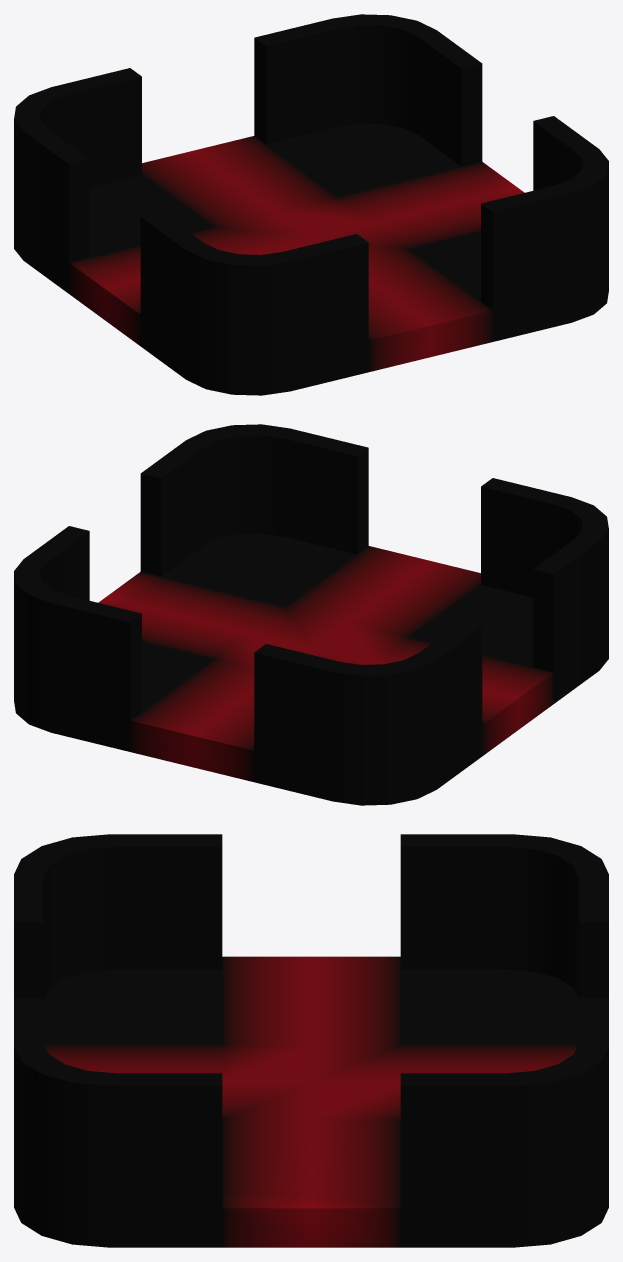
The model's file is Tile_Cross.fbx.
3 renders of one model, top to bottom at view 1: azimuth 30°, elevation 25°; view 2: azimuth 150°, elevation 25°; view 3: azimuth 270°, elevation 25°, orthographic. The views are drawn at different scales.
Visible parts, largest first — view 1: X_room; view 2: X_room; view 3: X_room.
Part boxes in pixels (<box>): X_room: <box>14,14,608,395</box>; X_room: <box>14,424,608,805</box>; X_room: <box>14,834,608,1247</box>.
Bounding box in the file's own units: 100 × 30 × 100.
